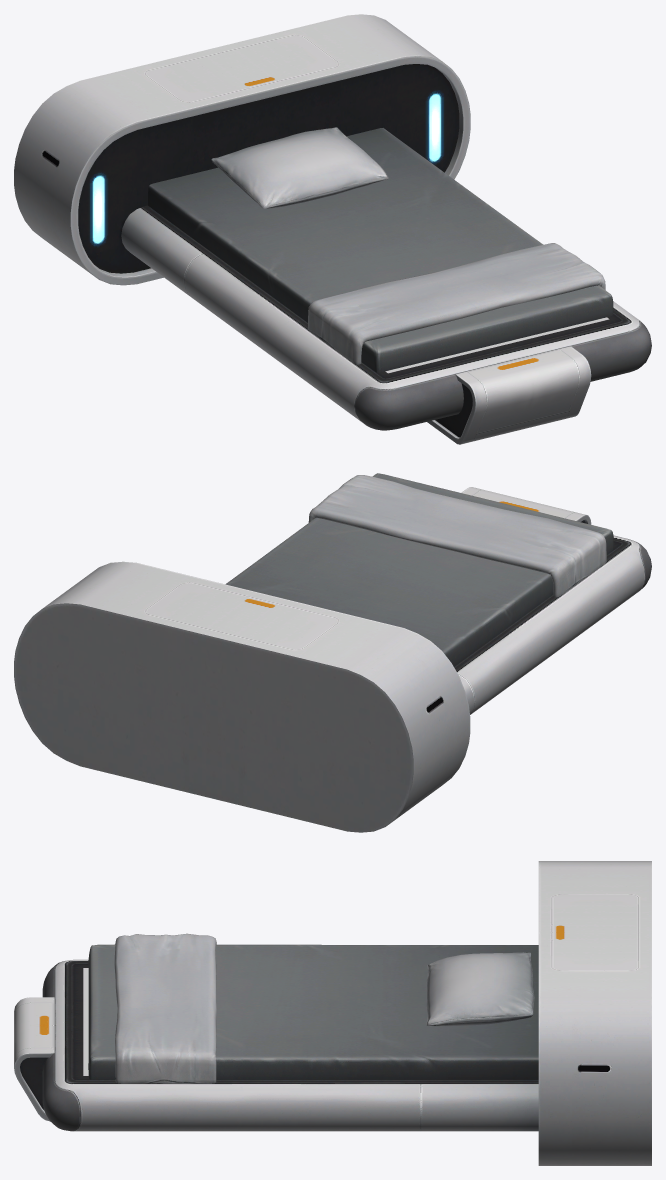
File: SingleBed.fbx
3 views of the same model, one above another, from view 1: azimuth 30°, elevation 25°; view 2: azimuth 150°, elevation 25°; view 3: azimuth 270°, elevation 25° (orthographic).
Visible parts, largest first — view 1: NarrowBed, NarrowMatress, NarrowBlanket, NarrowPillow; view 2: NarrowBed, NarrowMatress, NarrowBlanket; view 3: NarrowBed, NarrowMatress, NarrowBlanket, NarrowPillow.
Part boxes in pixels (left/top/right/bottom): NarrowBed: left=14, top=14, right=651, bottom=444; NarrowMatress: left=148, top=128, right=613, bottom=372; NarrowBlanket: left=308, top=243, right=605, bottom=364; NarrowPillow: left=211, top=127, right=388, bottom=208; NarrowBed: left=14, top=487, right=651, bottom=832; NarrowMatress: left=225, top=473, right=613, bottom=666; NarrowBlanket: left=308, top=475, right=606, bottom=596; NarrowBed: left=14, top=861, right=651, bottom=1165; NarrowMatress: left=88, top=944, right=538, bottom=1079; NarrowBlanket: left=114, top=933, right=216, bottom=1083; NarrowPillow: left=426, top=952, right=534, bottom=1026.
Size of the model in its own units: 219 by 84.72 by 303.
Materials: 2 (2 with a texture image).
